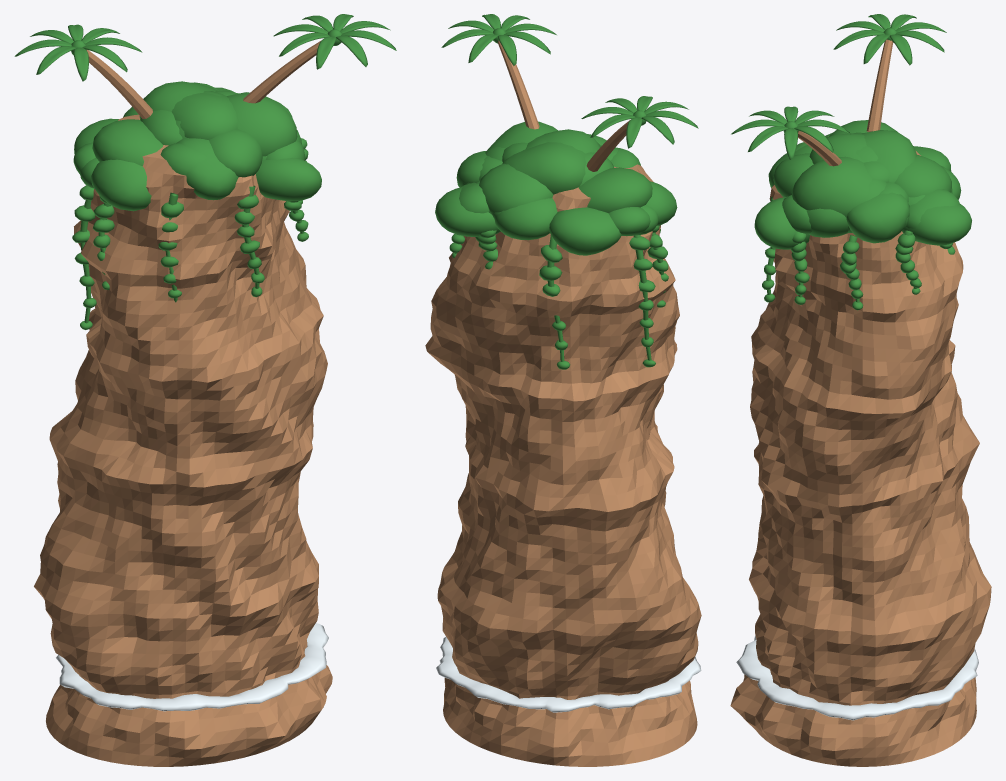
Rendered from SharkBaitSeaStack.obj.
3 views of the same model, side by side, from view 1: azimuth 30°, elevation 25°; view 2: azimuth 150°, elevation 25°; view 3: azimuth 270°, elevation 25° (orthographic). The views are drawn at different scales.
Parts seen in each view (by area): view 1: Rock, Jungle, Foam; view 2: Rock, Jungle, Foam; view 3: Rock, Jungle, Foam.
Boxes of the visible parts, left/top/right/bottom form: Rock: left=34, top=40, right=332, bottom=766; Jungle: left=14, top=14, right=396, bottom=329; Foam: left=56, top=623, right=328, bottom=711; Rock: left=425, top=40, right=701, bottom=766; Jungle: left=435, top=14, right=698, bottom=369; Foam: left=436, top=637, right=701, bottom=712; Rock: left=730, top=39, right=991, bottom=766; Jungle: left=731, top=14, right=971, bottom=310; Foam: left=736, top=635, right=978, bottom=720.
Bounding box in the file's own units: 22.94 × 48 × 17.71.
